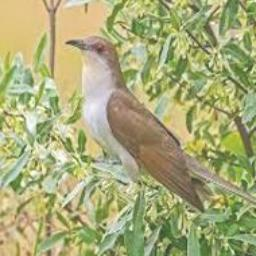Cuckoo: (63, 35, 256, 233)
